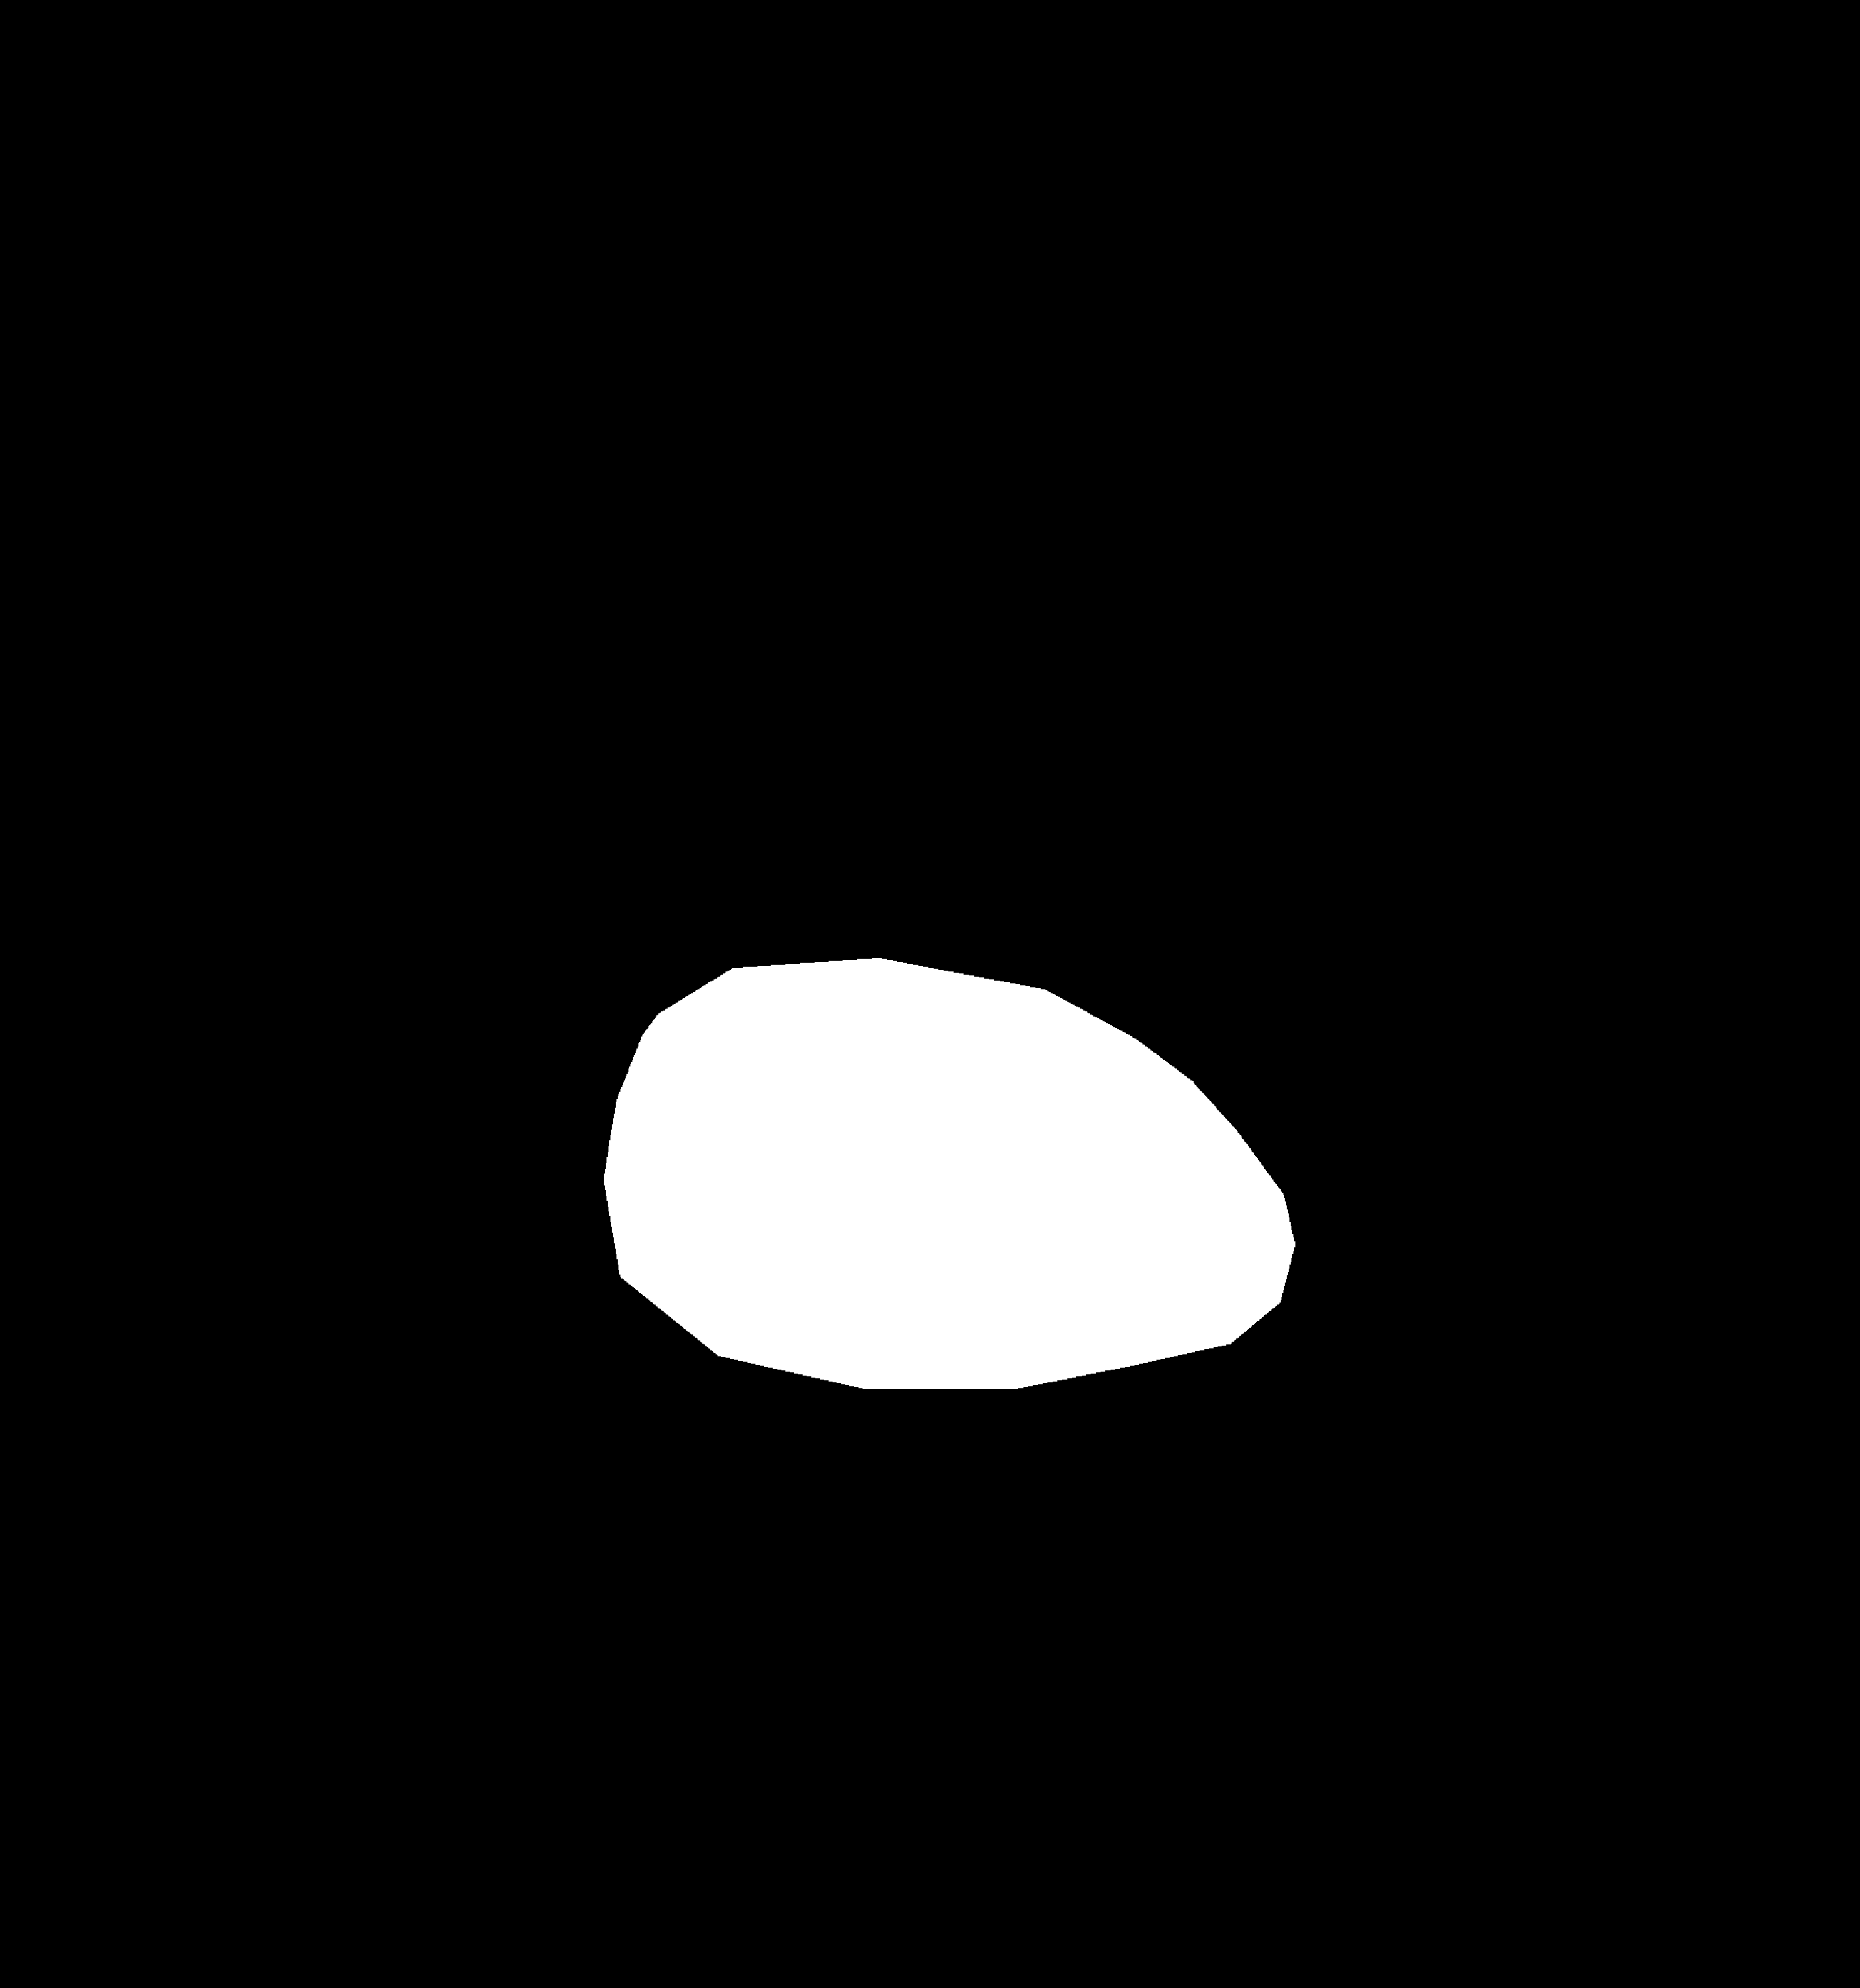heart: (612, 1009, 1311, 1530)
left_lung: (274, 393, 900, 1518)
right_lung: (949, 381, 1701, 1315)
